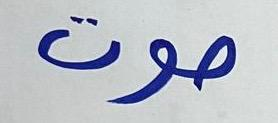sad: (184, 26, 247, 101)
teh: (32, 6, 122, 81)
waw: (123, 28, 182, 108)
